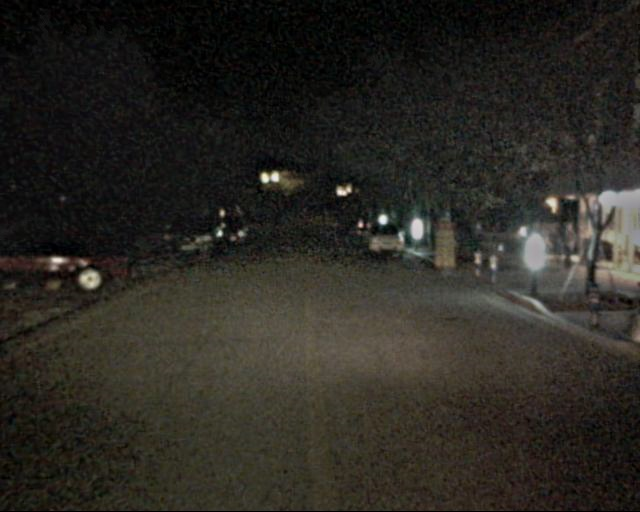person: (552, 217, 576, 275), (524, 222, 546, 275)
